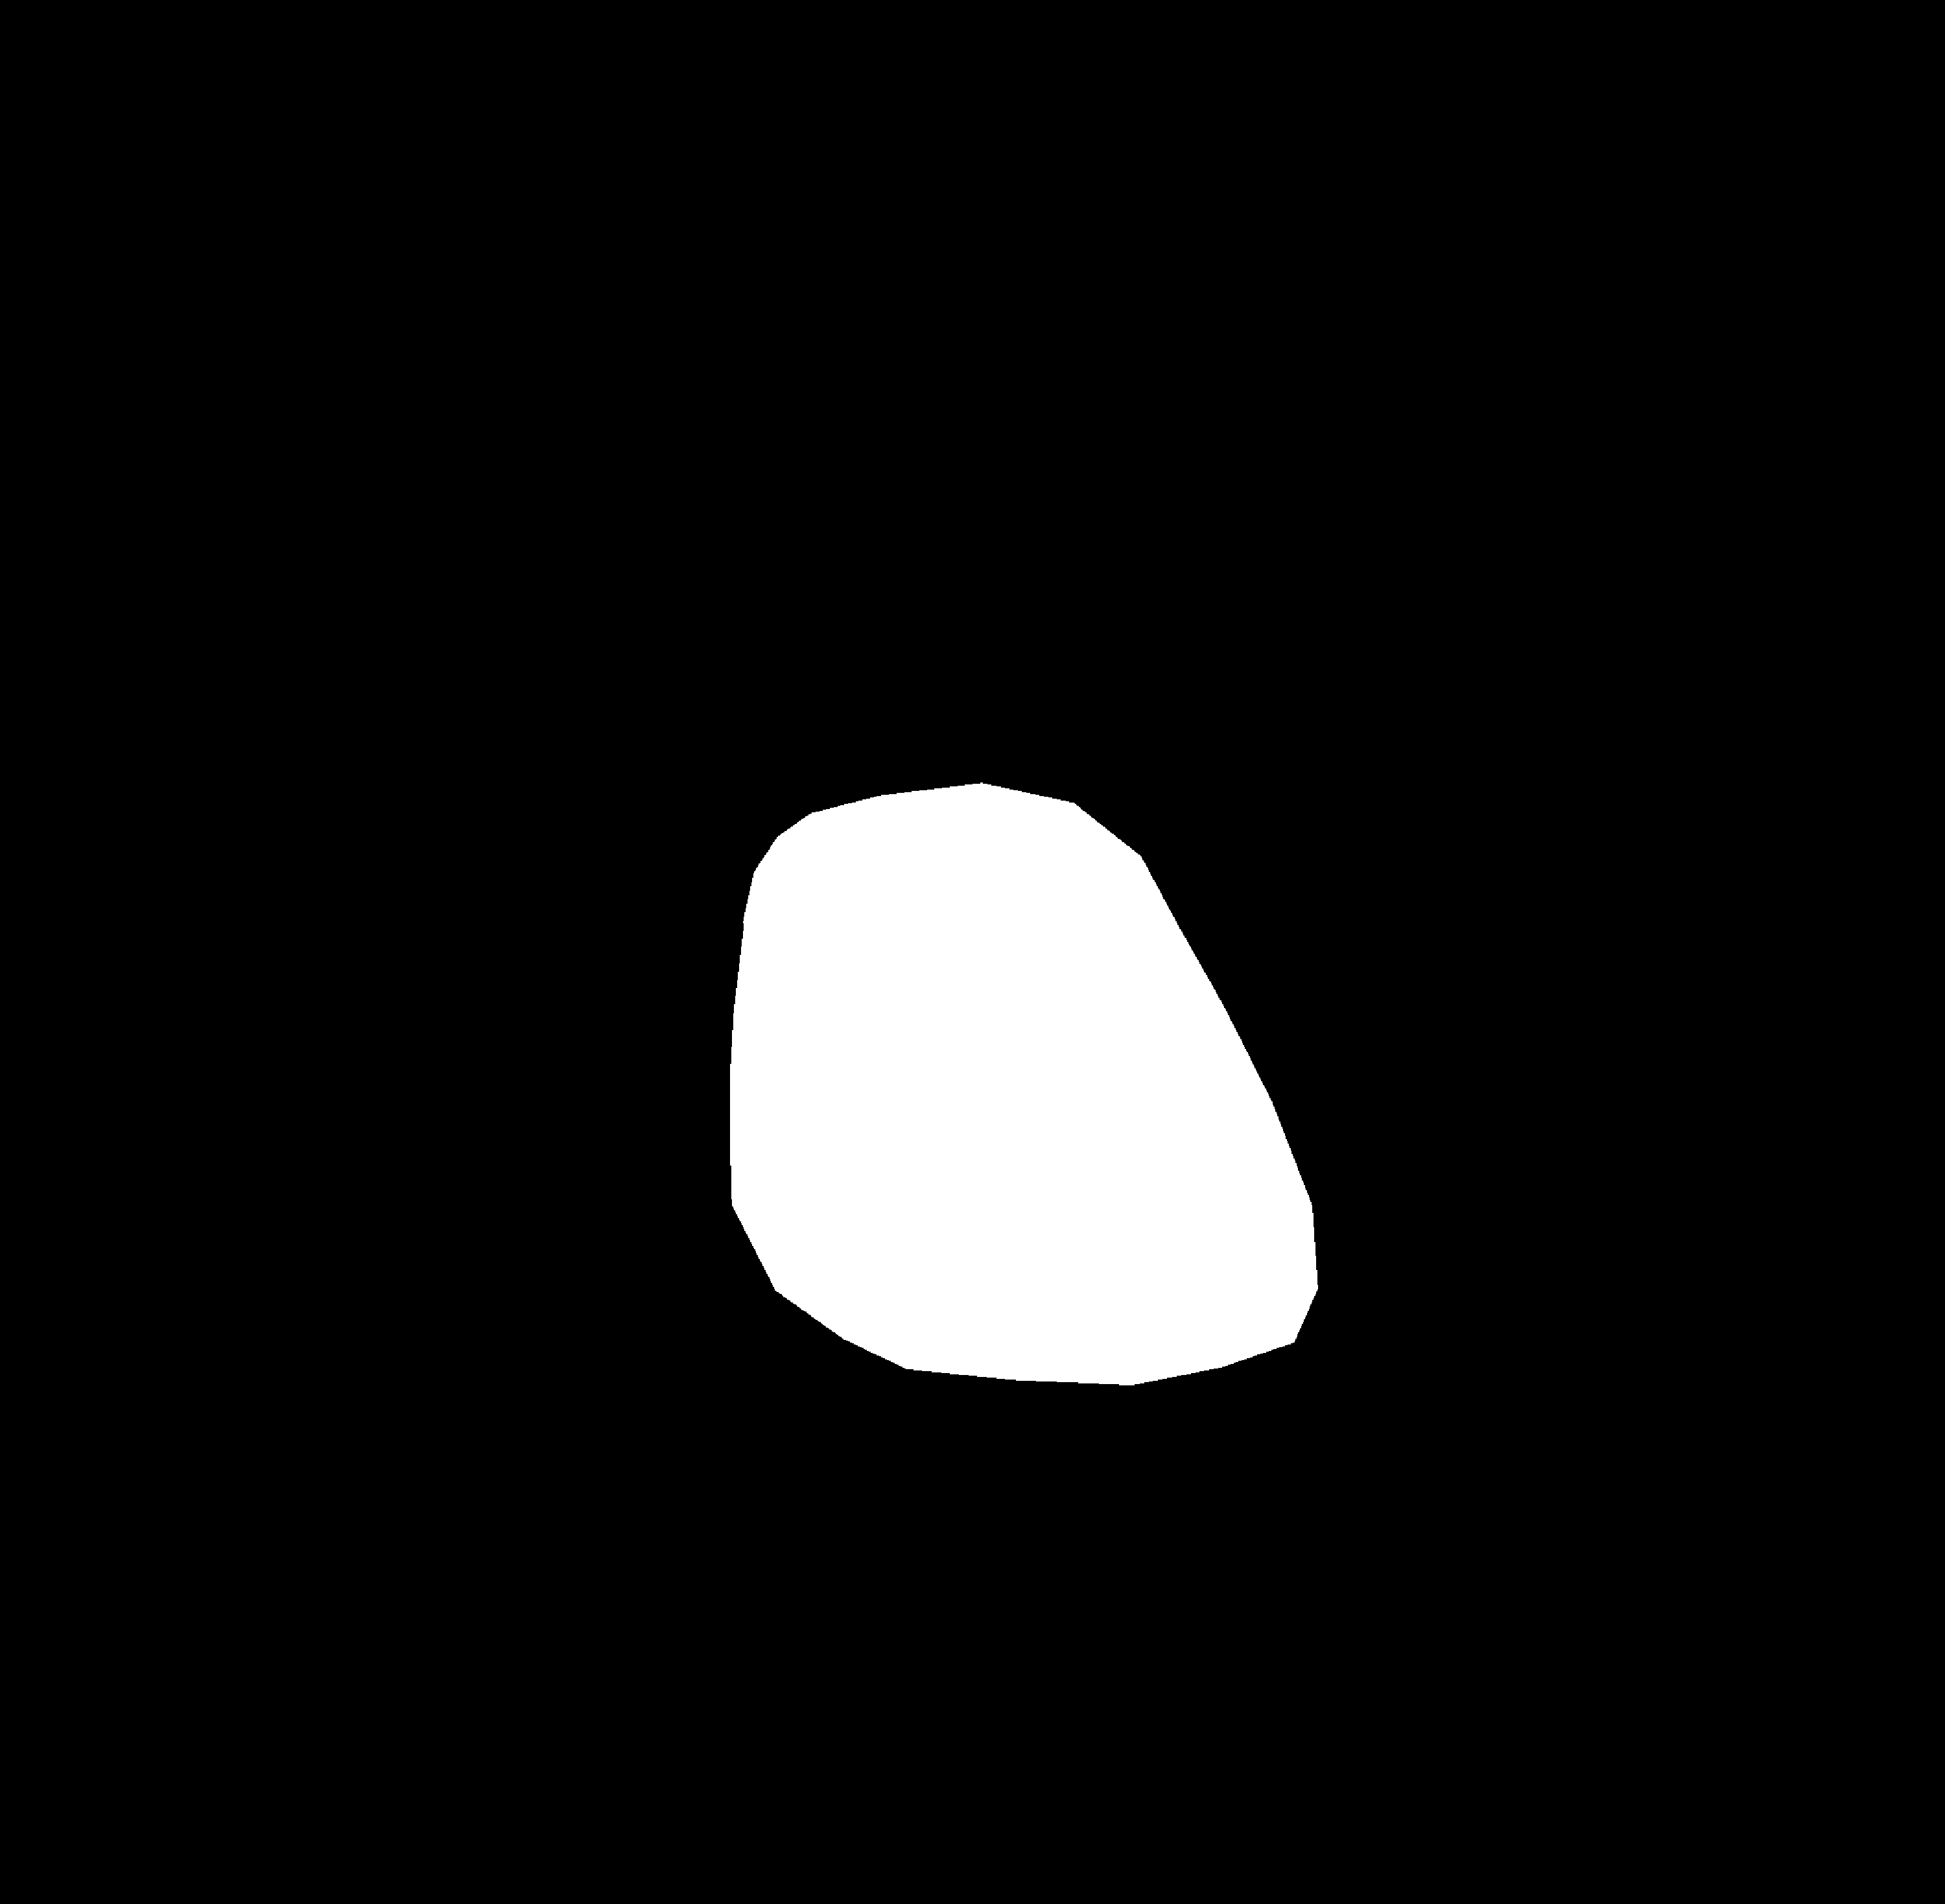heart: (729, 926, 1315, 1388)
left_lung: (218, 218, 850, 1456)
right_lung: (968, 227, 1608, 1534)
